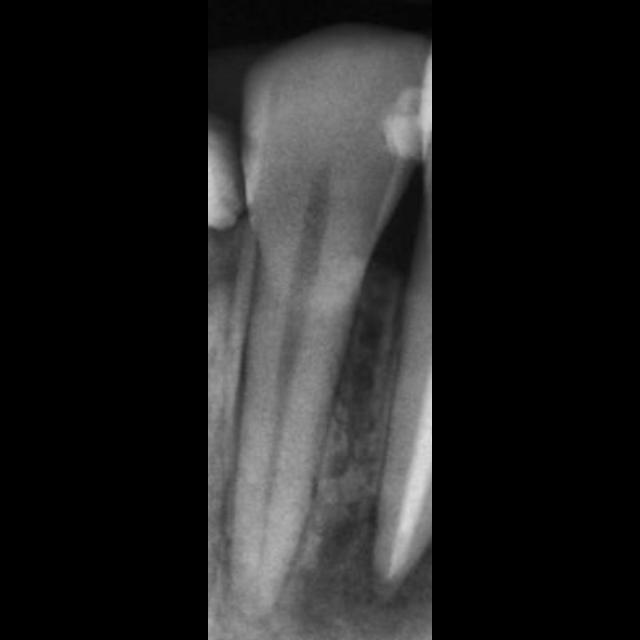tooth: (228, 22, 430, 617)
